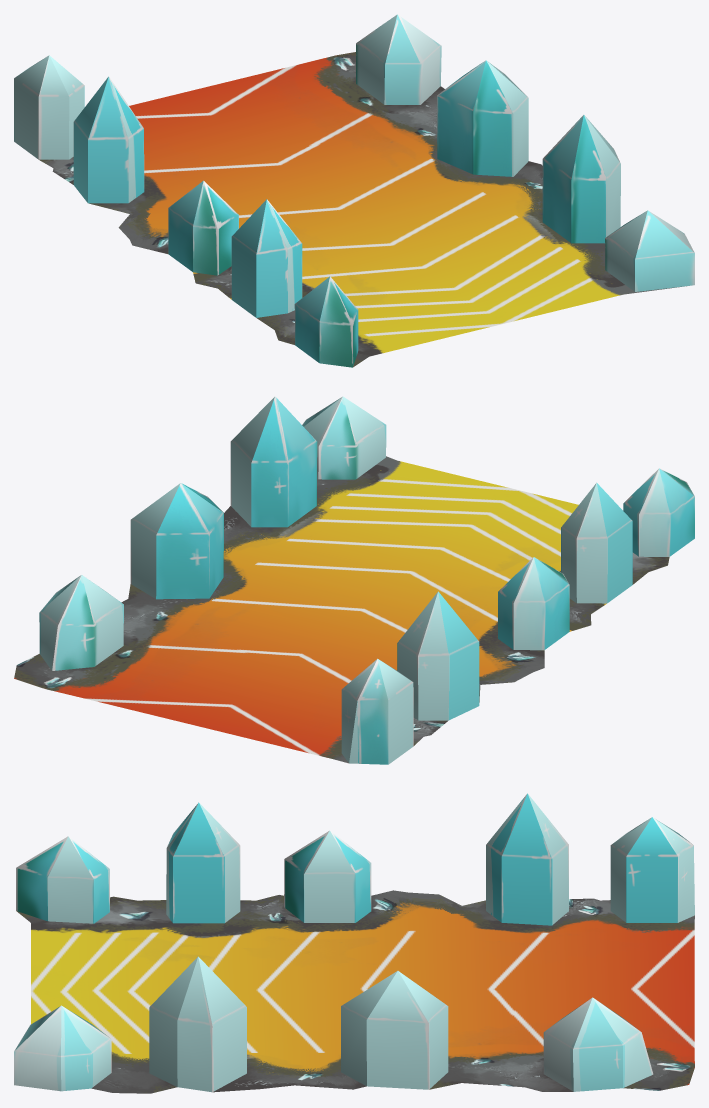
Rendered from BgMD_SpeedUP.fbx.
3 views of the same model, one above another, from view 1: azimuth 30°, elevation 25°; view 2: azimuth 150°, elevation 25°; view 3: azimuth 270°, elevation 25° (orthographic). The views are drawn at different scales.
Parts seen in each view (by area): view 1: polySurface13; view 2: polySurface13; view 3: polySurface13.
Boxes of the visible parts, <box> form: polySurface13: <box>14,14,694,367</box>; polySurface13: <box>14,396,694,764</box>; polySurface13: <box>14,793,694,1093</box>.
Size of the model in its own units: 283 by 76.64 by 400.
Materials: 1 (1 with a texture image).
